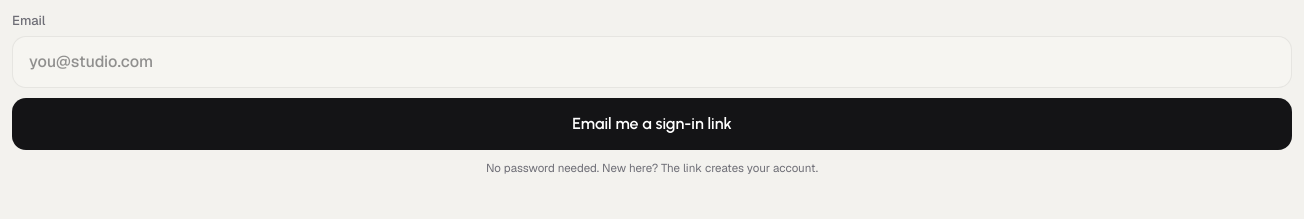
Scenario: SignInForm › shows the server's error when the link can't be sent
Type "hello@northbay.studio" into the field labelled "Email" at (652, 62), box [12,36,1292,88]
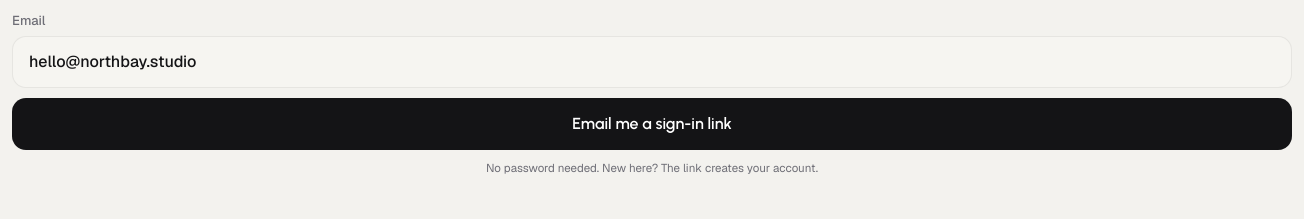
Click the button "Email me a sign-in link" at (652, 124), box [12,98,1292,150]
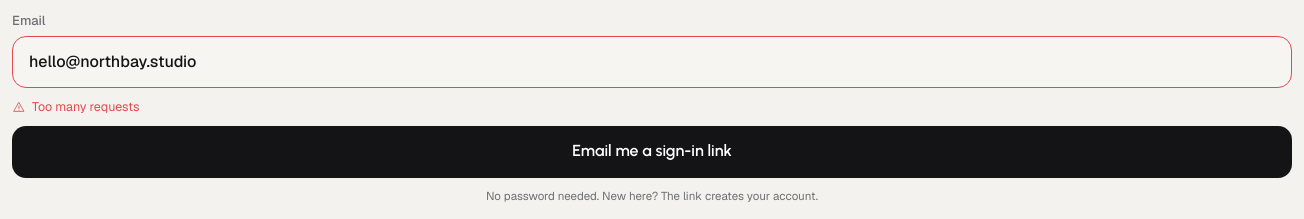
Expected: the message reads "Too many requests", [32,98,139,115]
